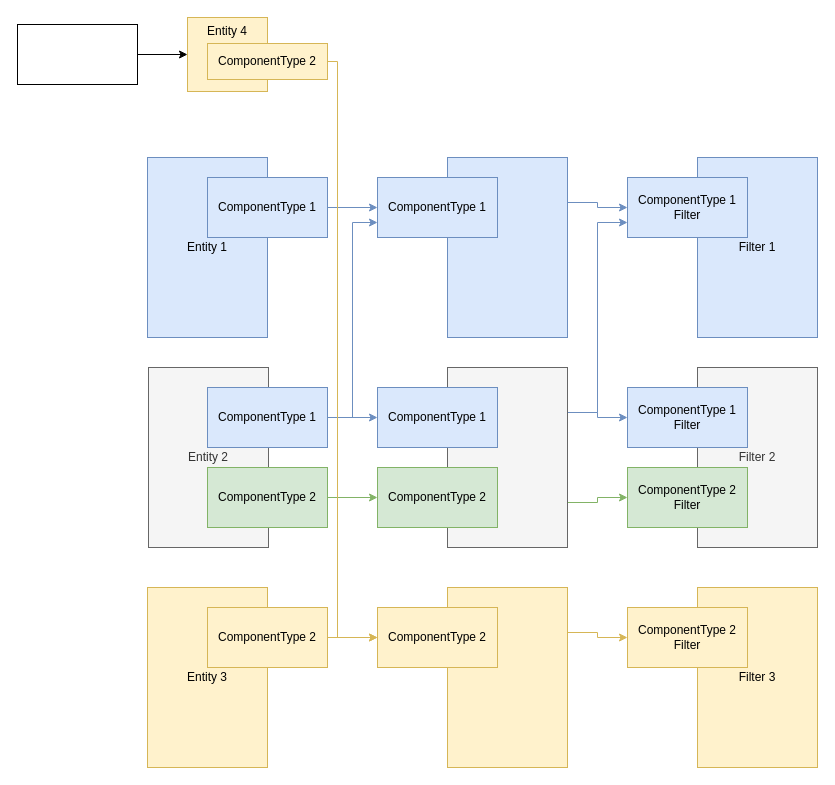
This 835x785 diagram has some shape labels left out. Each missing label, with the centre of its shape:
"Create Entity" goes at (77,54).
"Group 1" goes at (507,247).
"Group 2" goes at (507,457).
"Group 3" goes at (507,677).
